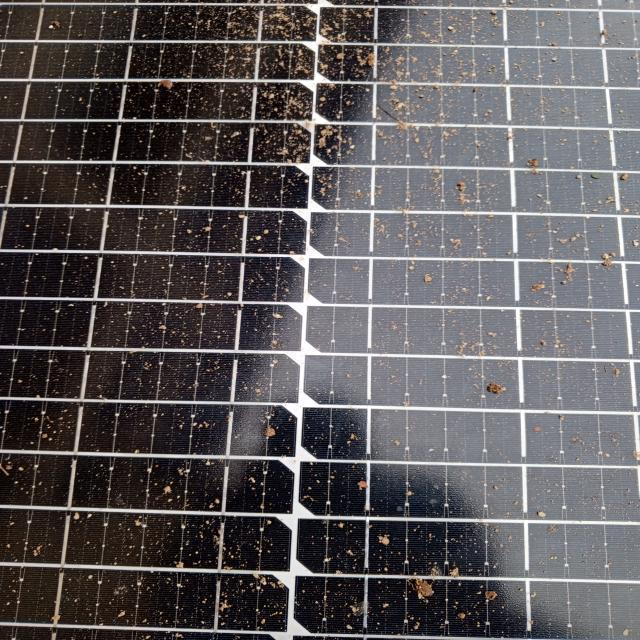Surface Contaminant: (14, 18, 592, 607)
